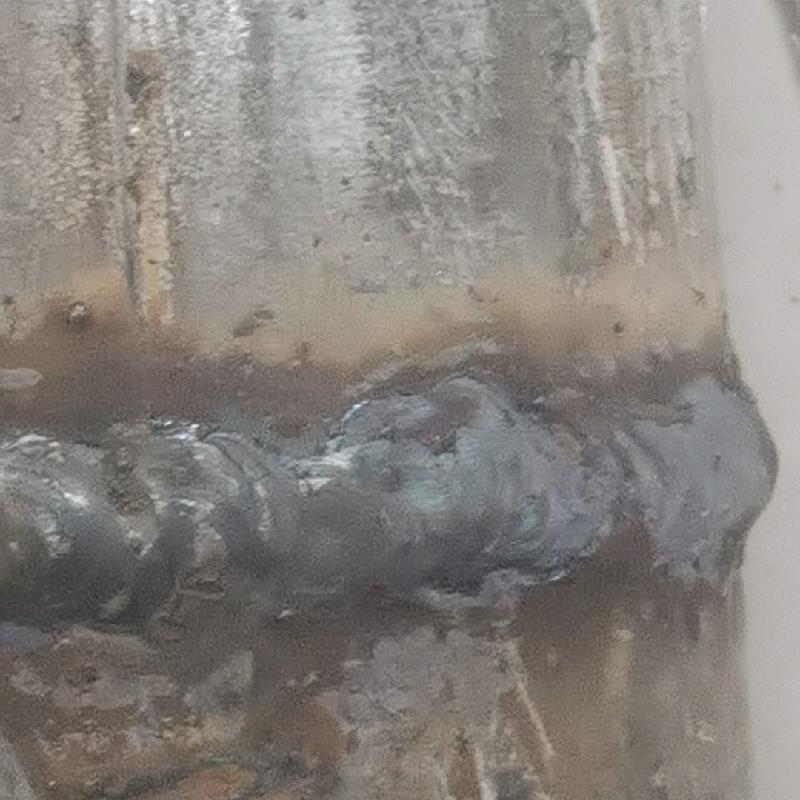good: (3, 380, 785, 613)
